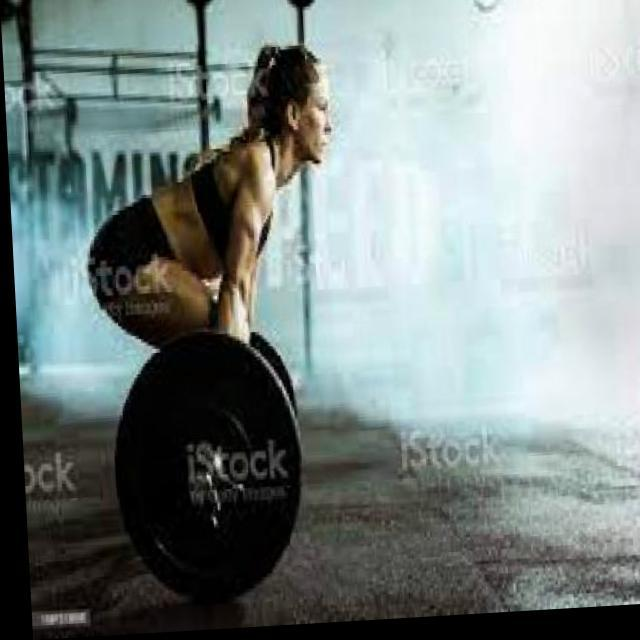barbell: (97, 325, 310, 617)
